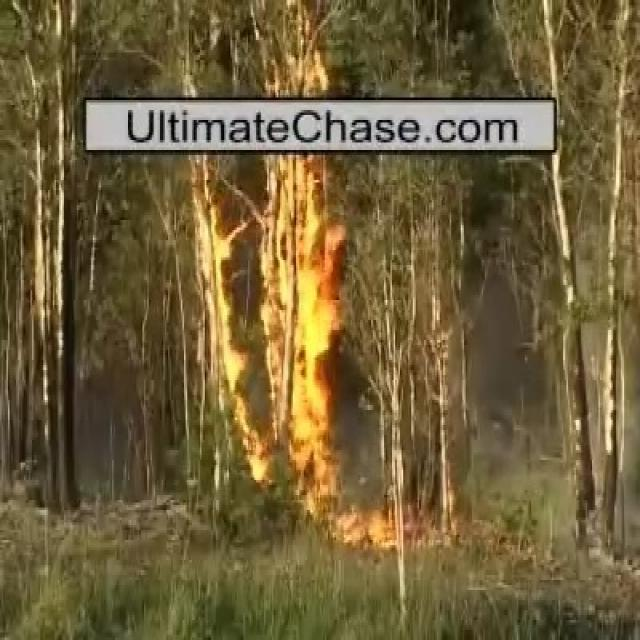fire: (271, 155, 323, 451), (332, 511, 392, 544)
